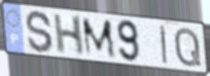9: (115, 18, 142, 64)
H: (52, 14, 85, 57)
I: (158, 24, 169, 66)
M: (80, 17, 118, 59)
Q: (173, 26, 203, 69)
S: (24, 9, 55, 55)
